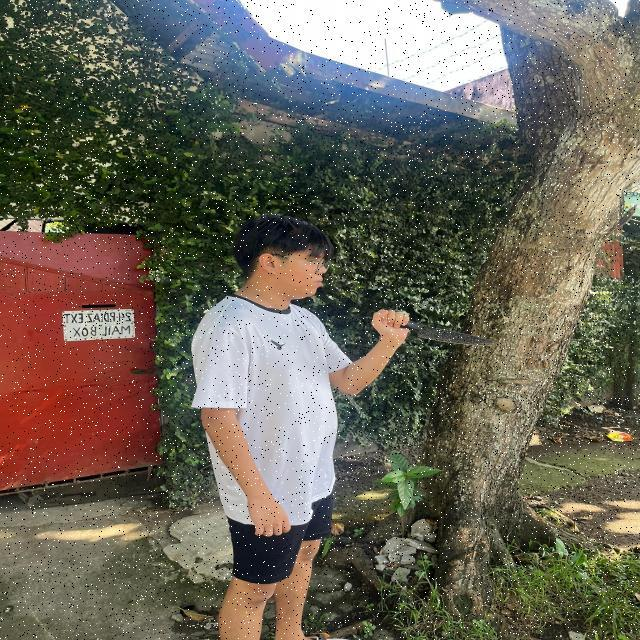knife: (382, 316, 492, 346)
non-violence: (197, 213, 494, 640)
